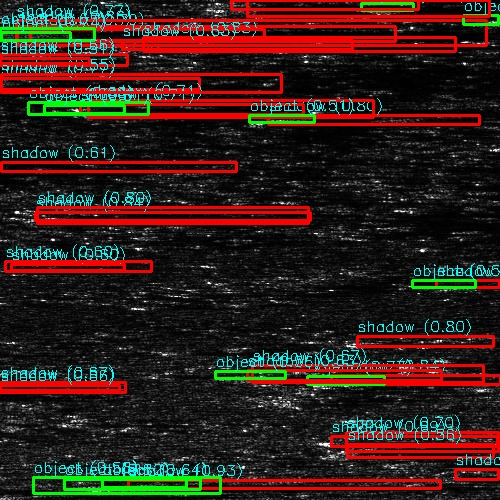rock: (95, 0, 398, 22), (358, 452, 483, 473), (0, 207, 119, 228), (303, 443, 408, 460), (0, 26, 96, 43), (379, 277, 472, 288), (195, 368, 288, 379), (297, 375, 380, 386), (81, 480, 164, 489), (259, 113, 332, 122), (297, 438, 360, 443), (340, 415, 393, 420), (459, 18, 500, 23), (487, 1, 500, 14), (31, 165, 62, 170), (123, 42, 154, 47), (0, 267, 29, 272)
shadow: (52, 207, 500, 228), (247, 0, 500, 22), (3, 26, 193, 43), (123, 480, 478, 489), (356, 443, 500, 460), (242, 368, 404, 379), (339, 375, 500, 386), (421, 452, 500, 473), (296, 113, 442, 122), (0, 388, 115, 399), (0, 383, 125, 390), (426, 277, 500, 288), (329, 438, 478, 443), (367, 415, 474, 420), (139, 42, 240, 47), (47, 165, 117, 170), (3, 267, 70, 272), (480, 18, 500, 23)
